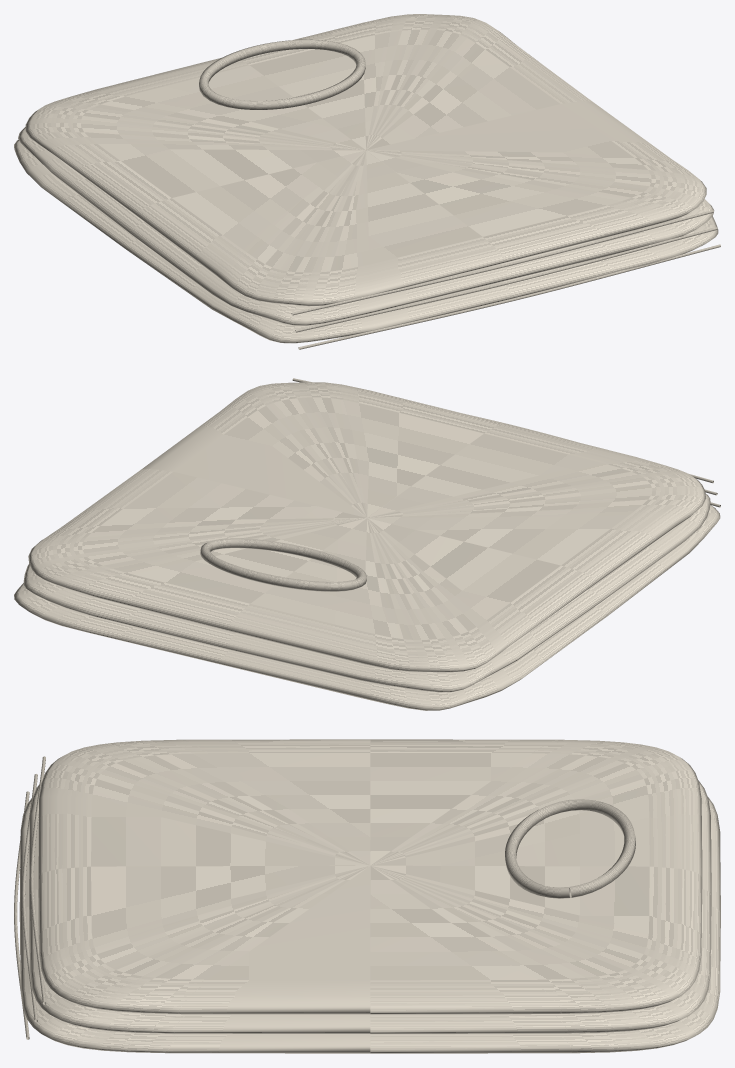
Rendered from folded.glb.
3 renders of one model, top to bottom at view 1: azimuth 30°, elevation 25°; view 2: azimuth 150°, elevation 25°; view 3: azimuth 270°, elevation 25°, orthographic. The views are drawn at different scales.
Visible parts, largest first — view 1: fabric_cream, tee fabric seam; view 2: fabric_cream, tee fabric seam; view 3: fabric_cream, tee fabric seam.
Boxes of the visible parts, x1=… form: fabric_cream: x1=14, y1=14, x2=718, y2=343; tee fabric seam: x1=199, y1=39, x2=720, y2=349; fabric_cream: x1=14, y1=382, x2=720, y2=710; tee fabric seam: x1=200, y1=378, x2=720, y2=591; fabric_cream: x1=19, y1=739, x2=720, y2=1053; tee fabric seam: x1=14, y1=756, x2=635, y2=1039.
Bounding box in the file's own units: 0.3224 × 0.0467 × 0.3428.
2 materials, 2 textured.
